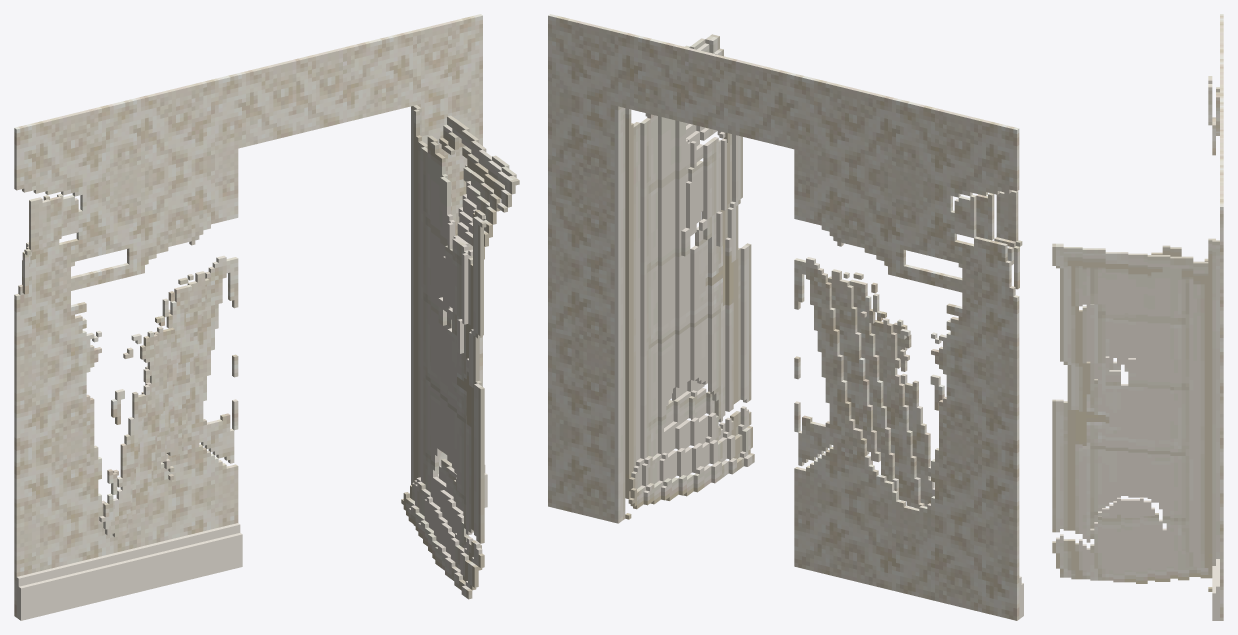
File: door1.vox.obj
3 views of the same model, side by side, from view 1: azimuth 30°, elevation 25°; view 2: azimuth 150°, elevation 25°; view 3: azimuth 270°, elevation 25° (orthographic). The views are drawn at different scales.
Size of the model in its own units: 12 by 12 by 4.5.
Materials: 1 (1 with a texture image).
